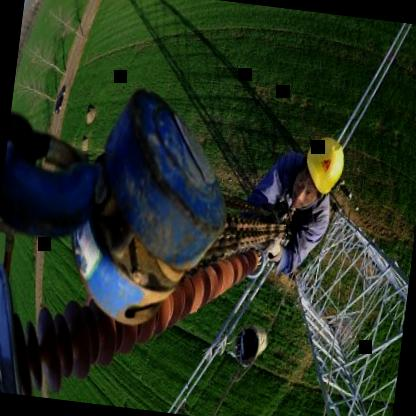helmet: (290, 126, 349, 216)
